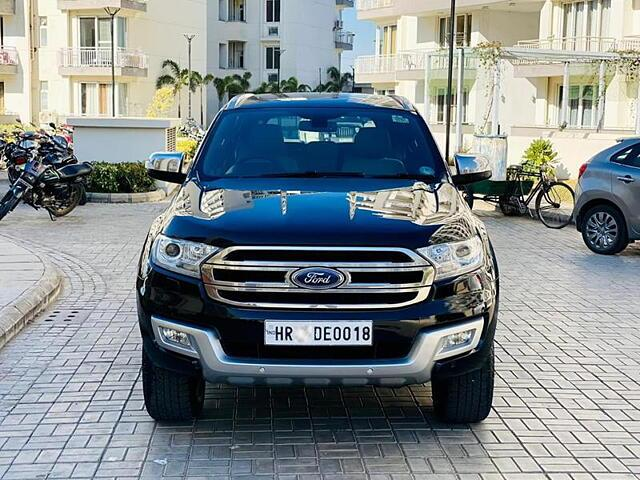ford: (136, 92, 500, 424)
